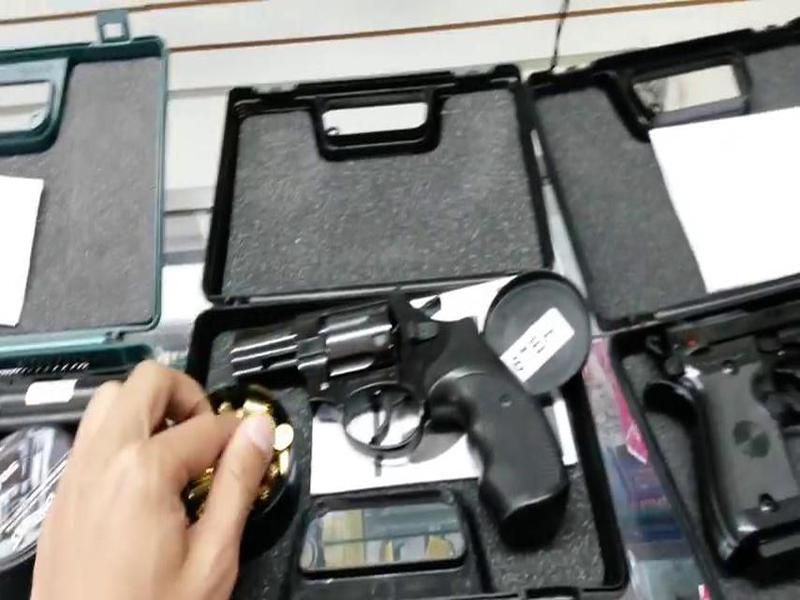Revolver: (219, 276, 559, 537)
